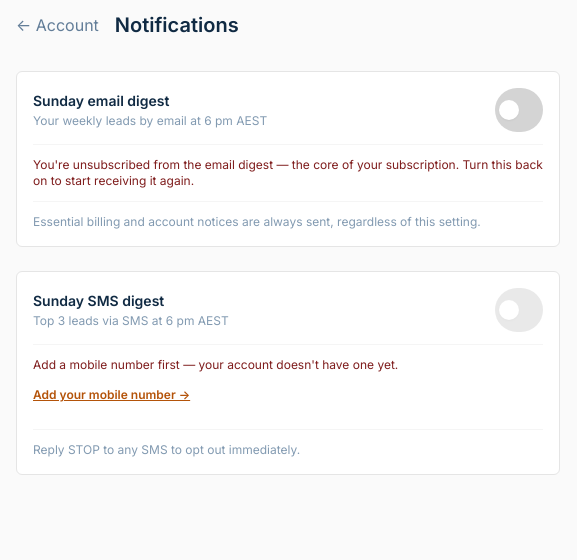
it: SMSOptInPage — email digest re-enable control (#105) › reverts the optimistic flip and shows an alert when the re-enable POST fails
Click the switch named "email digest" at (519, 110), box [495, 88, 543, 132]
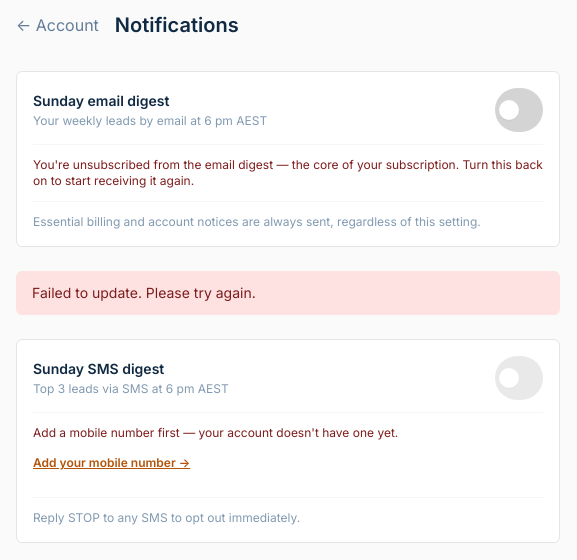
Now the message reads "Failed to update. Please try again.", box [32, 284, 256, 301]
